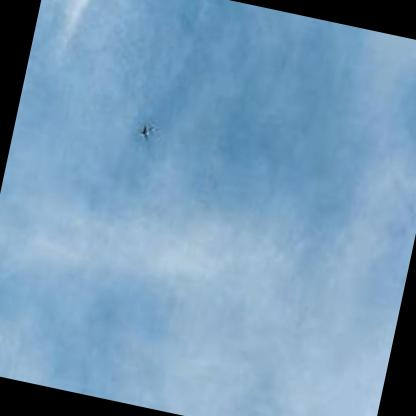plane: (131, 117, 160, 149)
